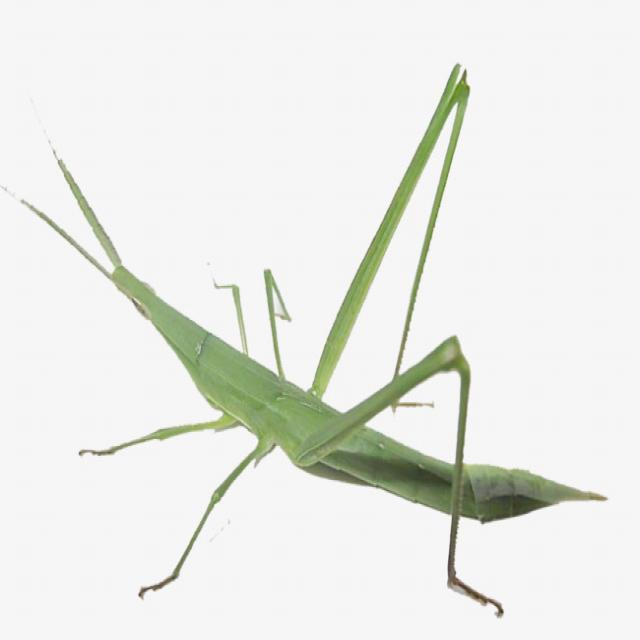ZhaMeng: (44, 56, 624, 585)
